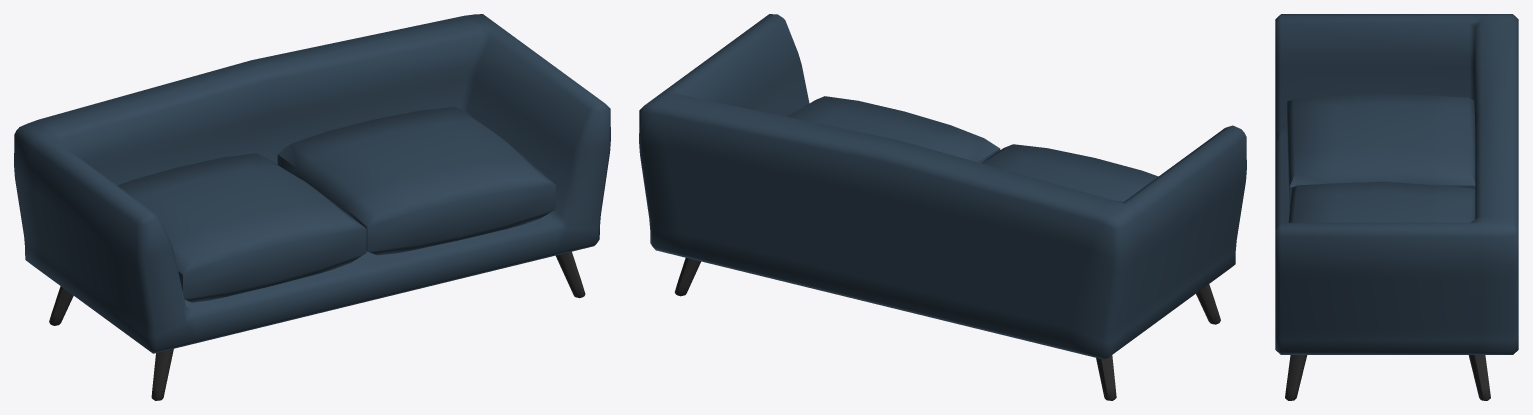
Rendered from Couch_Medium.glb.
3 views of the same model, side by side, from view 1: azimuth 30°, elevation 25°; view 2: azimuth 150°, elevation 25°; view 3: azimuth 270°, elevation 25° (orthographic). The views are drawn at different scales.
Visible parts, largest first — view 1: Couch_Medium; view 2: Couch_Medium; view 3: Couch_Medium.
Boxes of the visible parts, <box> form: Couch_Medium: <box>14,14,610,400</box>; Couch_Medium: <box>639,14,1246,400</box>; Couch_Medium: <box>1275,14,1518,400</box>.
Bounding box in the file's own units: 1.92 × 0.7809 × 0.9008.
